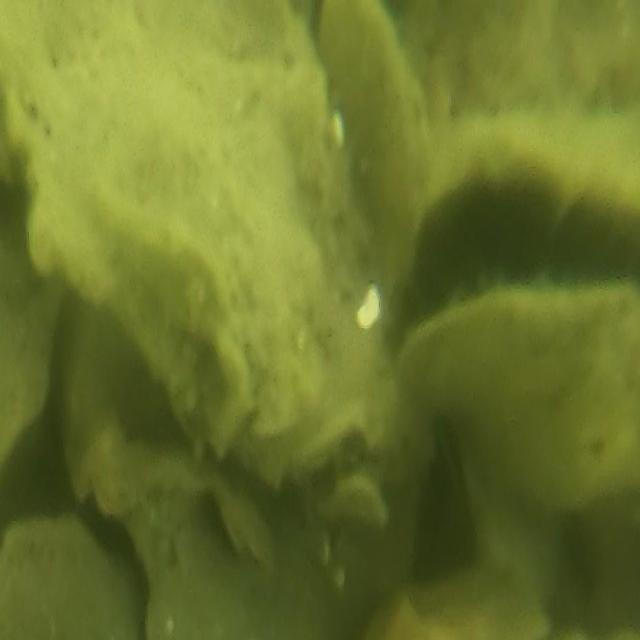Oyster-Indeterminate: (0, 0, 448, 483), (119, 485, 361, 640), (318, 0, 427, 323), (464, 452, 571, 624), (0, 514, 136, 640), (0, 187, 59, 473), (373, 572, 548, 640)
Oyster-Open: (397, 114, 640, 514)
